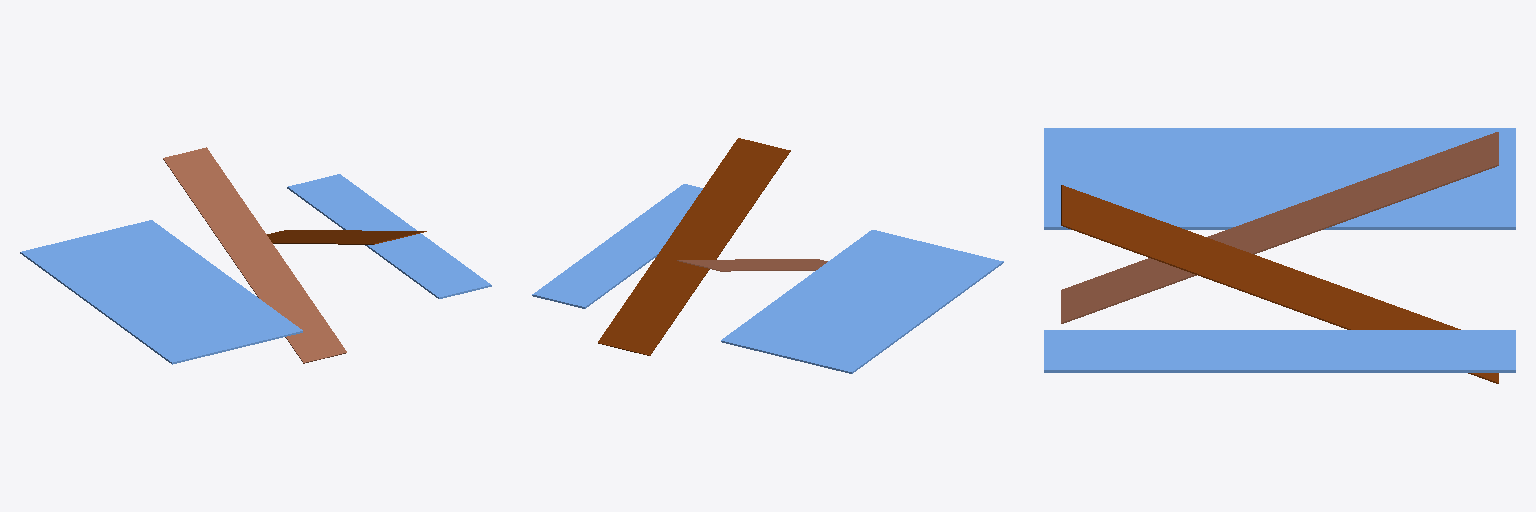
The robot description file, URDF, robot "chimney":
<?xml version="0.0" ?>
<robot name="chimney">

  <material name = "light_blue">
      <color rgba="0.52 0.73 1 1"/>
  </material>

  <material name = "brown">
      <color rgba="0.68 0.45 0.35 1.0"/>
  </material>

  <material name="brown2">
      <color rgba="0.545 0.27 0.074 1.0"/>
  </material>

  <link name="first_ground">
    <inertial>
      <origin rpy="0 0 0" xyz="0 0 0"/>
       <mass value="1.0"/>
       <inertia ixx="1" ixy="0" ixz="0" iyy="1" iyz="0" izz="1"/>
    </inertial>
    <visual>
      <origin rpy="0 0 0" xyz="-0.2 0 -0.005"/>
      <geometry>
        <box size="0.75 1.5 0.01"/>
      </geometry>
      <material name="light_blue"/>
    </visual>
  </link>

  <joint name="first_to_second" type="fixed">
    <origin rpy="0 0 0" xyz="0.329 0 0.08"/>
    <parent link="first_ground"/>
    <child link="second_ground"/>
  </joint>
  <link name="second_ground">
    <inertial>
      <origin rpy="0 0 0" xyz="0 0 0"/>
       <mass value="1.0"/>
       <inertia ixx="1" ixy="0" ixz="0" iyy="1" iyz="0" izz="1"/>
    </inertial>
    <visual>
      <origin rpy="0.3805 0 0" xyz="0.00372 0 -0.00928"/>
      <geometry>
        <box size="0.25 1.5 0.005"/>
      </geometry>
      <material name="brown"/>
    </visual>
  </link>

  <joint name="first_to_third" type="fixed">
    <origin rpy="0 0 0" xyz="0.756 0 0.08"/>
    <parent link="first_ground"/>
    <child link="third_ground"/>
  </joint>
  <link name="third_ground">
    <inertial>
      <origin rpy="0 0 0" xyz="0 0 0"/>
       <mass value="1.0"/>
       <inertia ixx="1" ixy="0" ixz="0" iyy="1" iyz="0" izz="1"/>
    </inertial>
    <visual>
      <origin rpy="-0.3805 0 0" xyz="0.00372 0 -0.00928"/>
      <geometry>
        <box size="0.3 1.5 0.005"/>
      </geometry>
      <material name="brown2"/>
    </visual>
  </link>

  <joint name="first_to_fourth" type="fixed">
    <origin rpy="0 0 0" xyz="1.1 0 0"/>
    <parent link="first_ground"/>
    <child link="fourth_ground"/>
  </joint>
  <link name="fourth_ground">
    <inertial>
      <origin rpy="0 0 0" xyz="0 0 0"/>
       <mass value="1.0"/>
       <inertia ixx="1" ixy="0" ixz="0" iyy="1" iyz="0" izz="1"/>
    </inertial>
    <visual>
      <origin rpy="0 0 0" xyz="0 0 -0.005"/>
      <geometry>
        <box size="0.3 1.5 0.01"/>
      </geometry>
      <material name="light_blue"/>
    </visual>
  </link>

</robot>

--- What the picture shows (computed from the rendered views, not written in the file) ---
The picture shows the robot from 3 angles, left to right: view 1: azimuth 30°, elevation 25°; view 2: azimuth 150°, elevation 25°; view 3: azimuth 270°, elevation 25°; orthographic projection.
Robot: chimney — 4 links, 3 joints (3 fixed); root link first_ground; default pose: every joint at zero.
Visible links, largest first — view 1: first_ground, second_ground, fourth_ground, third_ground; view 2: first_ground, third_ground, fourth_ground, second_ground; view 3: first_ground, fourth_ground, third_ground, second_ground.
Boxes of the visible links, x1=… form: first_ground: x1=20, y1=220, x2=302, y2=364; second_ground: x1=163, y1=147, x2=346, y2=363; fourth_ground: x1=287, y1=174, x2=491, y2=298; third_ground: x1=267, y1=230, x2=426, y2=244; first_ground: x1=721, y1=230, x2=1003, y2=373; third_ground: x1=598, y1=138, x2=790, y2=355; fourth_ground: x1=532, y1=184, x2=702, y2=308; second_ground: x1=677, y1=259, x2=827, y2=271; first_ground: x1=1044, y1=128, x2=1515, y2=229; fourth_ground: x1=1044, y1=330, x2=1515, y2=372; third_ground: x1=1061, y1=185, x2=1498, y2=383; second_ground: x1=1061, y1=132, x2=1498, y2=323.
Size in the robot's own frame: 1.82 by 1.5 by 0.5617 metres.
Geometry: primitives only (box / cylinder / sphere), no mesh files.